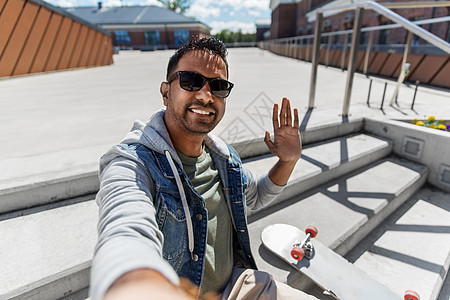no-phone: (257, 94, 316, 171)
